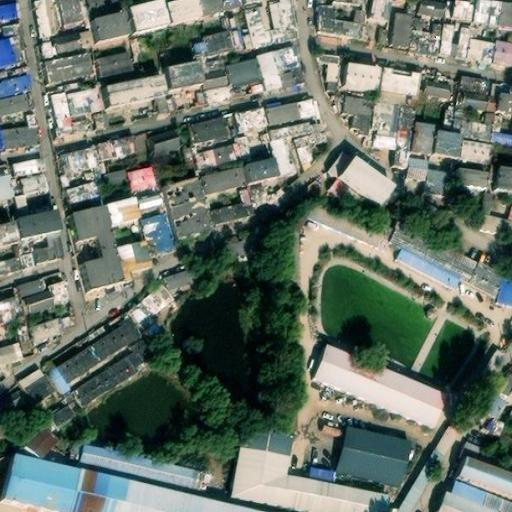building: (232, 423, 389, 512), (5, 458, 263, 512), (315, 344, 445, 423), (47, 316, 142, 389), (79, 445, 209, 493), (72, 338, 158, 408), (396, 424, 462, 512), (392, 223, 480, 278), (70, 203, 124, 289), (335, 429, 407, 487), (328, 147, 393, 204), (308, 201, 385, 248), (370, 102, 418, 170), (265, 120, 320, 179), (161, 177, 212, 240), (395, 244, 464, 288), (50, 85, 107, 138), (243, 0, 299, 49), (456, 454, 512, 500), (103, 72, 168, 107), (228, 106, 270, 159), (204, 12, 253, 56), (125, 282, 175, 325), (44, 50, 100, 88), (450, 478, 512, 512), (17, 272, 69, 312), (257, 46, 303, 88), (57, 146, 105, 186), (208, 185, 256, 225), (469, 262, 512, 306), (16, 365, 58, 407), (187, 115, 235, 151), (451, 106, 497, 143), (116, 238, 155, 281), (265, 97, 317, 129), (476, 393, 512, 438), (41, 28, 92, 58), (16, 206, 61, 240), (0, 113, 41, 150), (199, 166, 249, 196), (105, 194, 145, 230), (161, 58, 203, 92), (225, 57, 265, 92), (317, 8, 365, 37), (193, 141, 239, 171), (96, 51, 134, 86), (64, 178, 103, 212), (440, 22, 473, 62), (11, 174, 48, 209), (31, 229, 66, 266), (326, 174, 364, 208), (455, 78, 493, 112), (344, 97, 377, 136), (144, 211, 175, 252), (197, 53, 230, 91), (92, 10, 131, 41), (409, 22, 444, 56), (97, 134, 138, 163), (436, 492, 495, 512), (163, 268, 196, 300), (27, 316, 67, 342), (381, 69, 421, 95), (0, 66, 32, 98), (147, 129, 181, 159), (0, 240, 30, 274), (318, 53, 342, 93), (25, 425, 55, 456), (434, 127, 464, 158), (127, 168, 160, 196), (56, 0, 86, 28), (244, 160, 277, 185), (346, 63, 379, 88), (488, 82, 512, 116), (391, 11, 414, 46), (457, 166, 489, 191), (411, 120, 436, 152), (46, 402, 75, 429), (460, 138, 492, 162), (468, 37, 495, 65), (12, 159, 44, 180), (424, 168, 448, 196), (199, 0, 243, 15), (315, 416, 344, 438), (104, 168, 130, 191), (307, 465, 336, 485), (406, 156, 430, 180), (492, 40, 512, 67), (494, 373, 512, 402), (0, 343, 23, 365), (426, 80, 452, 98), (139, 189, 163, 208), (496, 165, 512, 189), (371, 0, 392, 16), (460, 441, 479, 458), (499, 1, 512, 25), (333, 0, 367, 8)
